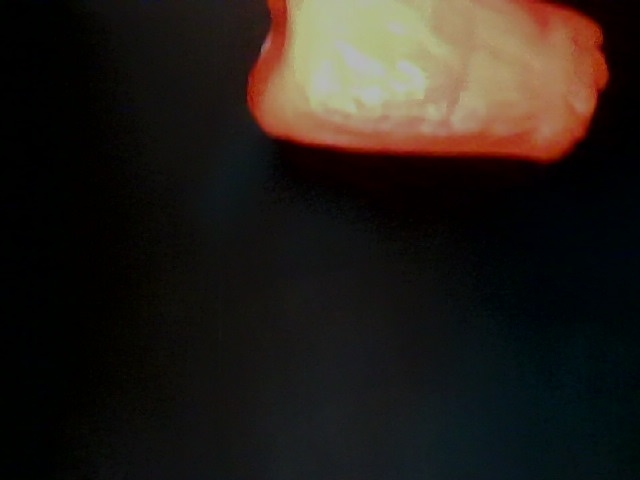KHSLJ: (274, 115, 597, 431)
